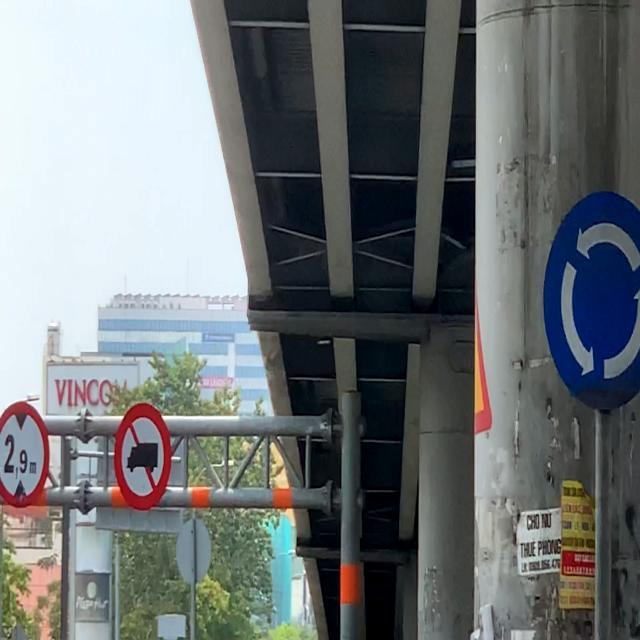Cam xe tai: (114, 402, 172, 510)
Han che chieu cao: (0, 400, 49, 507)
Noi giao nhau chay theo vong xuyen: (542, 190, 640, 412)
